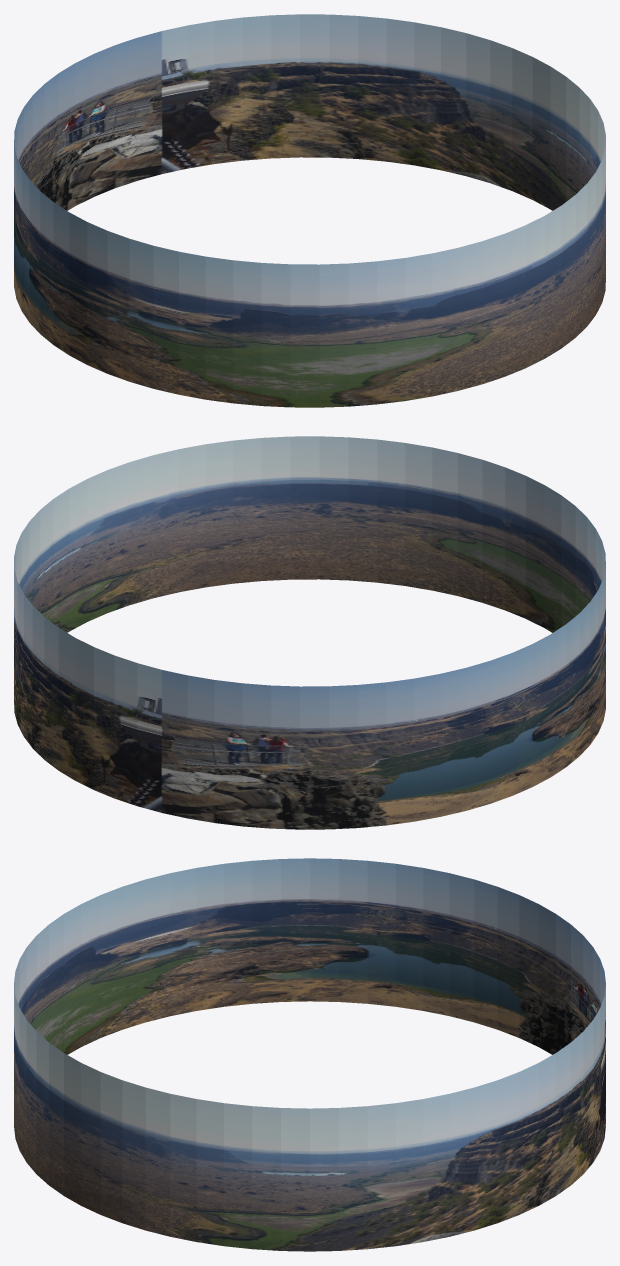
File: Cilindro1.fbx
3 views of the same model, one above another, from view 1: azimuth 30°, elevation 25°; view 2: azimuth 150°, elevation 25°; view 3: azimuth 270°, elevation 25° (orthographic).
Visible parts, largest first — view 1: Cylinder.001; view 2: Cylinder.001; view 3: Cylinder.001.
Boxes of the visible parts, box(x1,y1,x2,y2) form: Cylinder.001: box(14, 14, 605, 407); Cylinder.001: box(14, 436, 605, 829); Cylinder.001: box(14, 858, 605, 1251).
Bounding box in the file's own units: 300 × 80 × 300.
